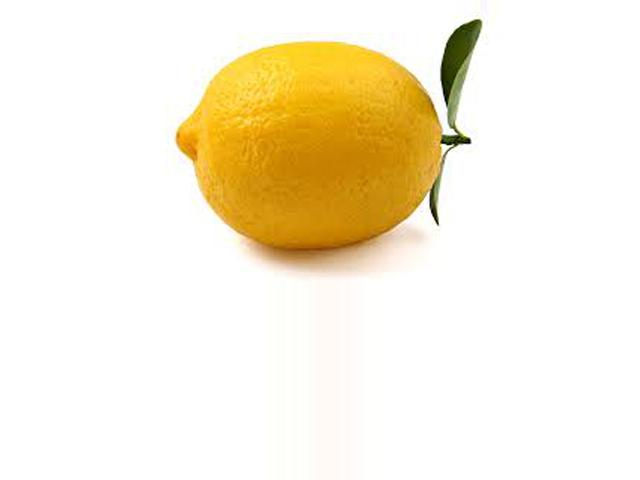lemon: (158, 37, 449, 259)
